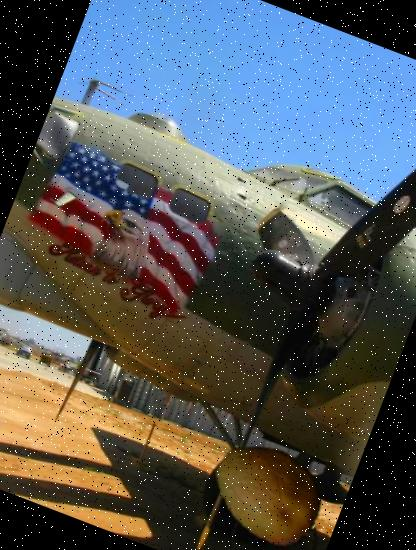Papaya: (192, 417, 343, 550)
